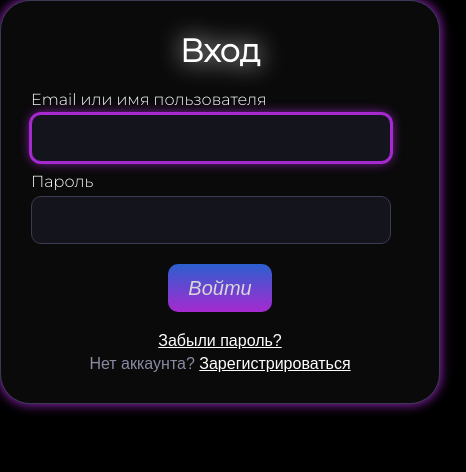
it: LoginForm › checks required fields before sending anything
This screenshot has width=466, height=472.
Click the button "Войти". click: (220, 288)
box: [168,264,272,312]
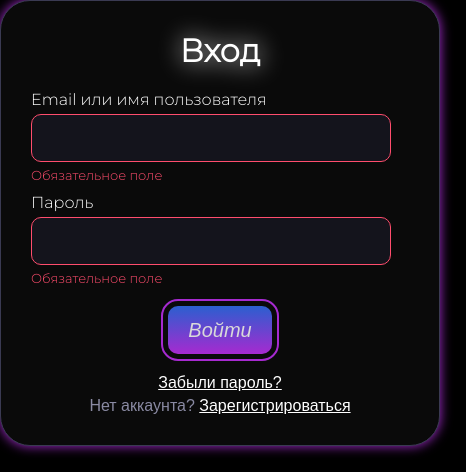
Check: the text "Обязательное поле" is shown 2 times, box [31,167,162,183]; [31,270,162,286]
